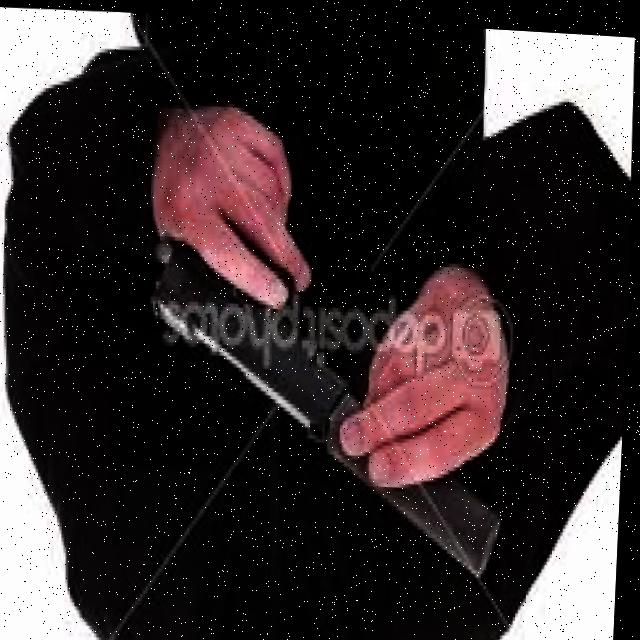pistol: (145, 240, 517, 575)
